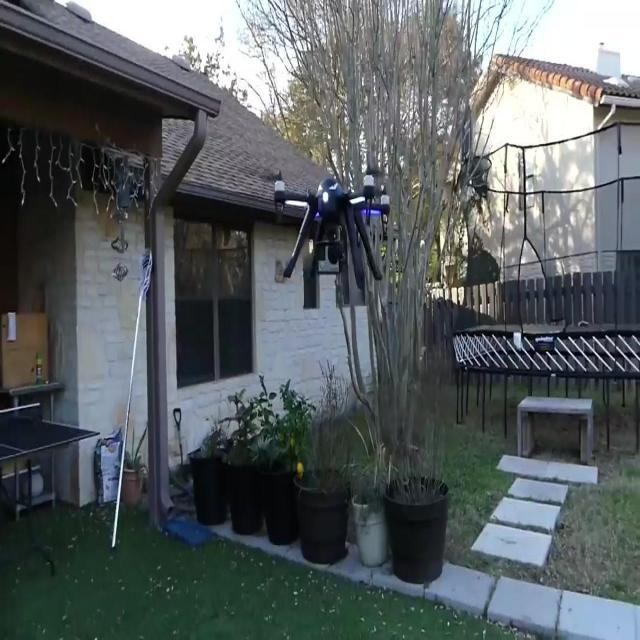UAV: (264, 166, 391, 292)
